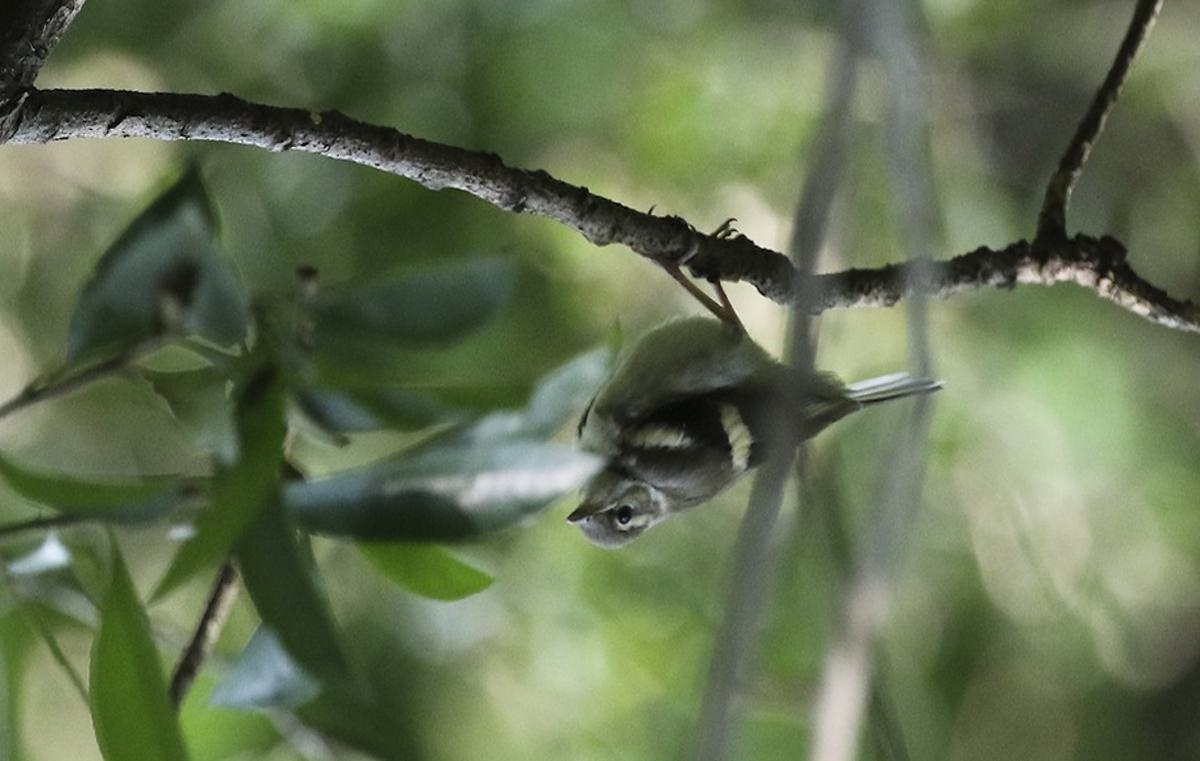wagtail: (554, 263, 933, 552)
